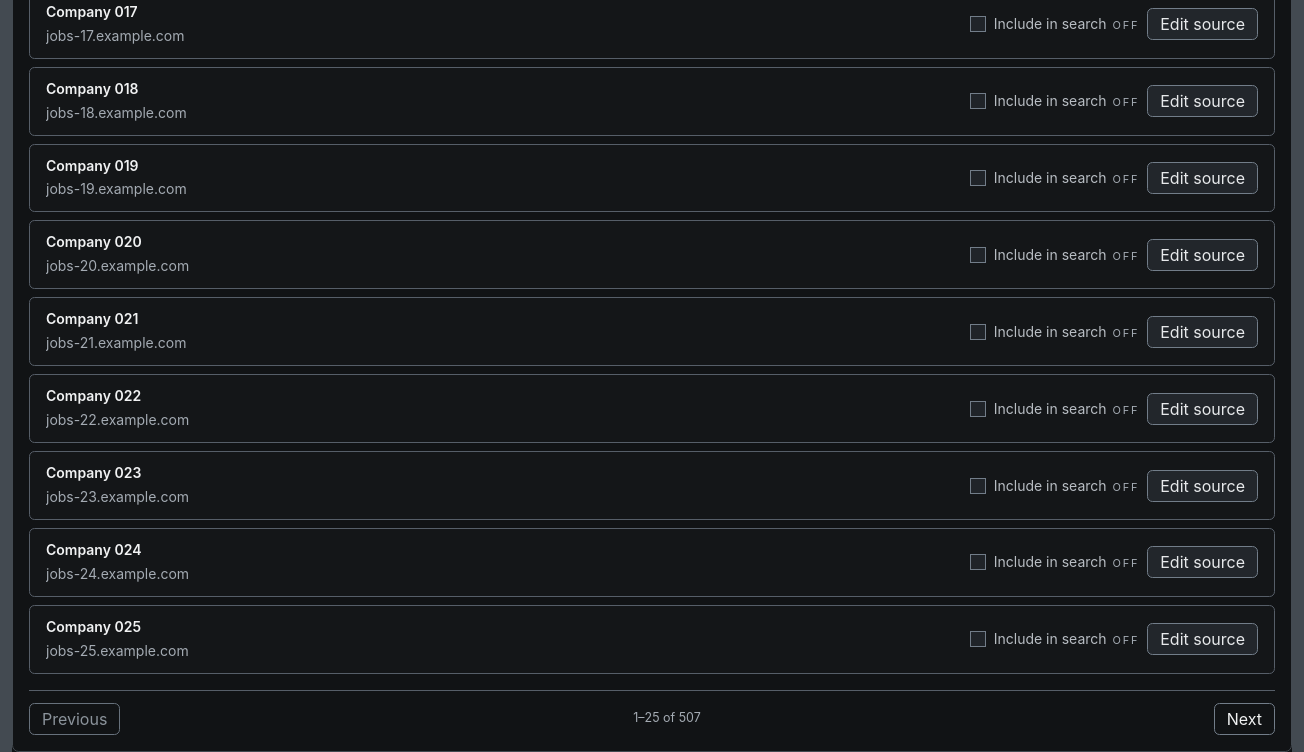
Test: ProfileJobSourcesTab › keeps a 507-source catalog bounded to one 25-row page
(page scrolled)
Expected: the text "1–25 of 507" is shown, left=633, top=709, right=701, bottom=728
Expected: the text "Company 026" is not shown
Click the button "Next" at (1244, 719), box left=1214, top=703, right=1275, bottom=735
(page scrolled)
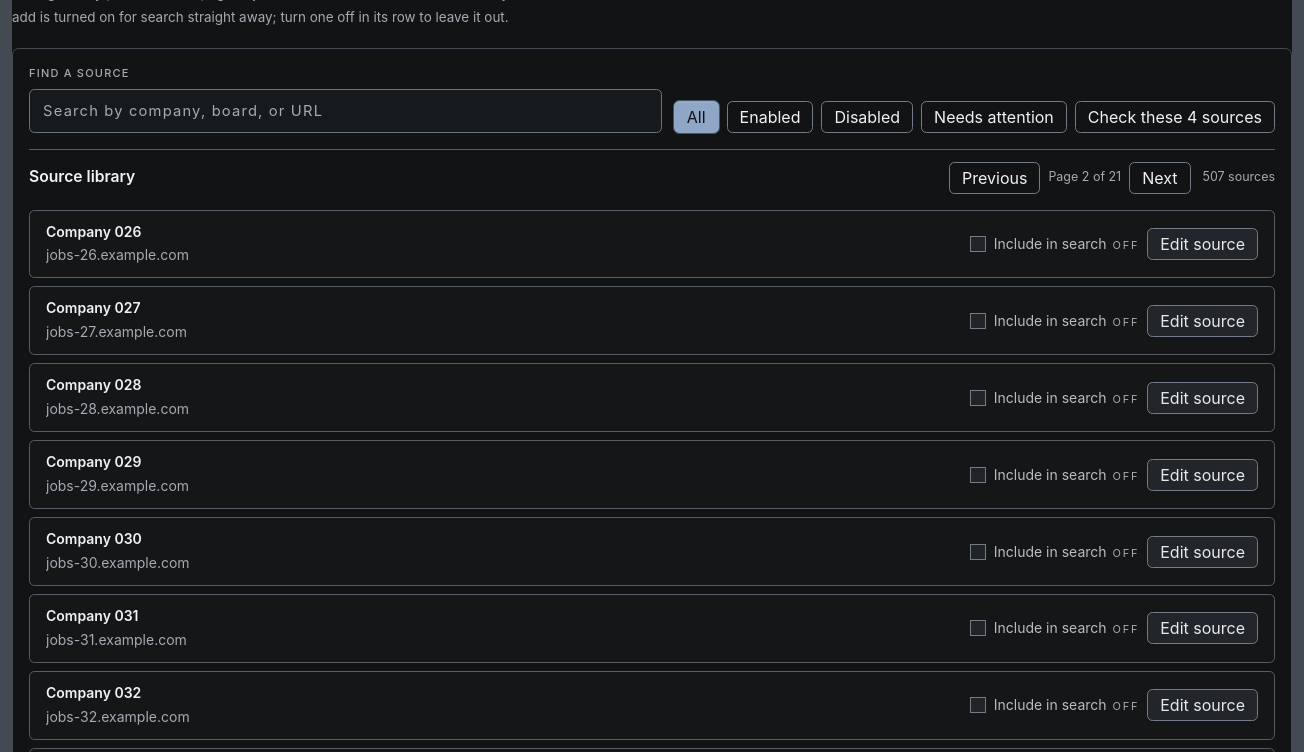
Now the heading "Company 026" is shown, box left=46, top=222, right=141, bottom=241
